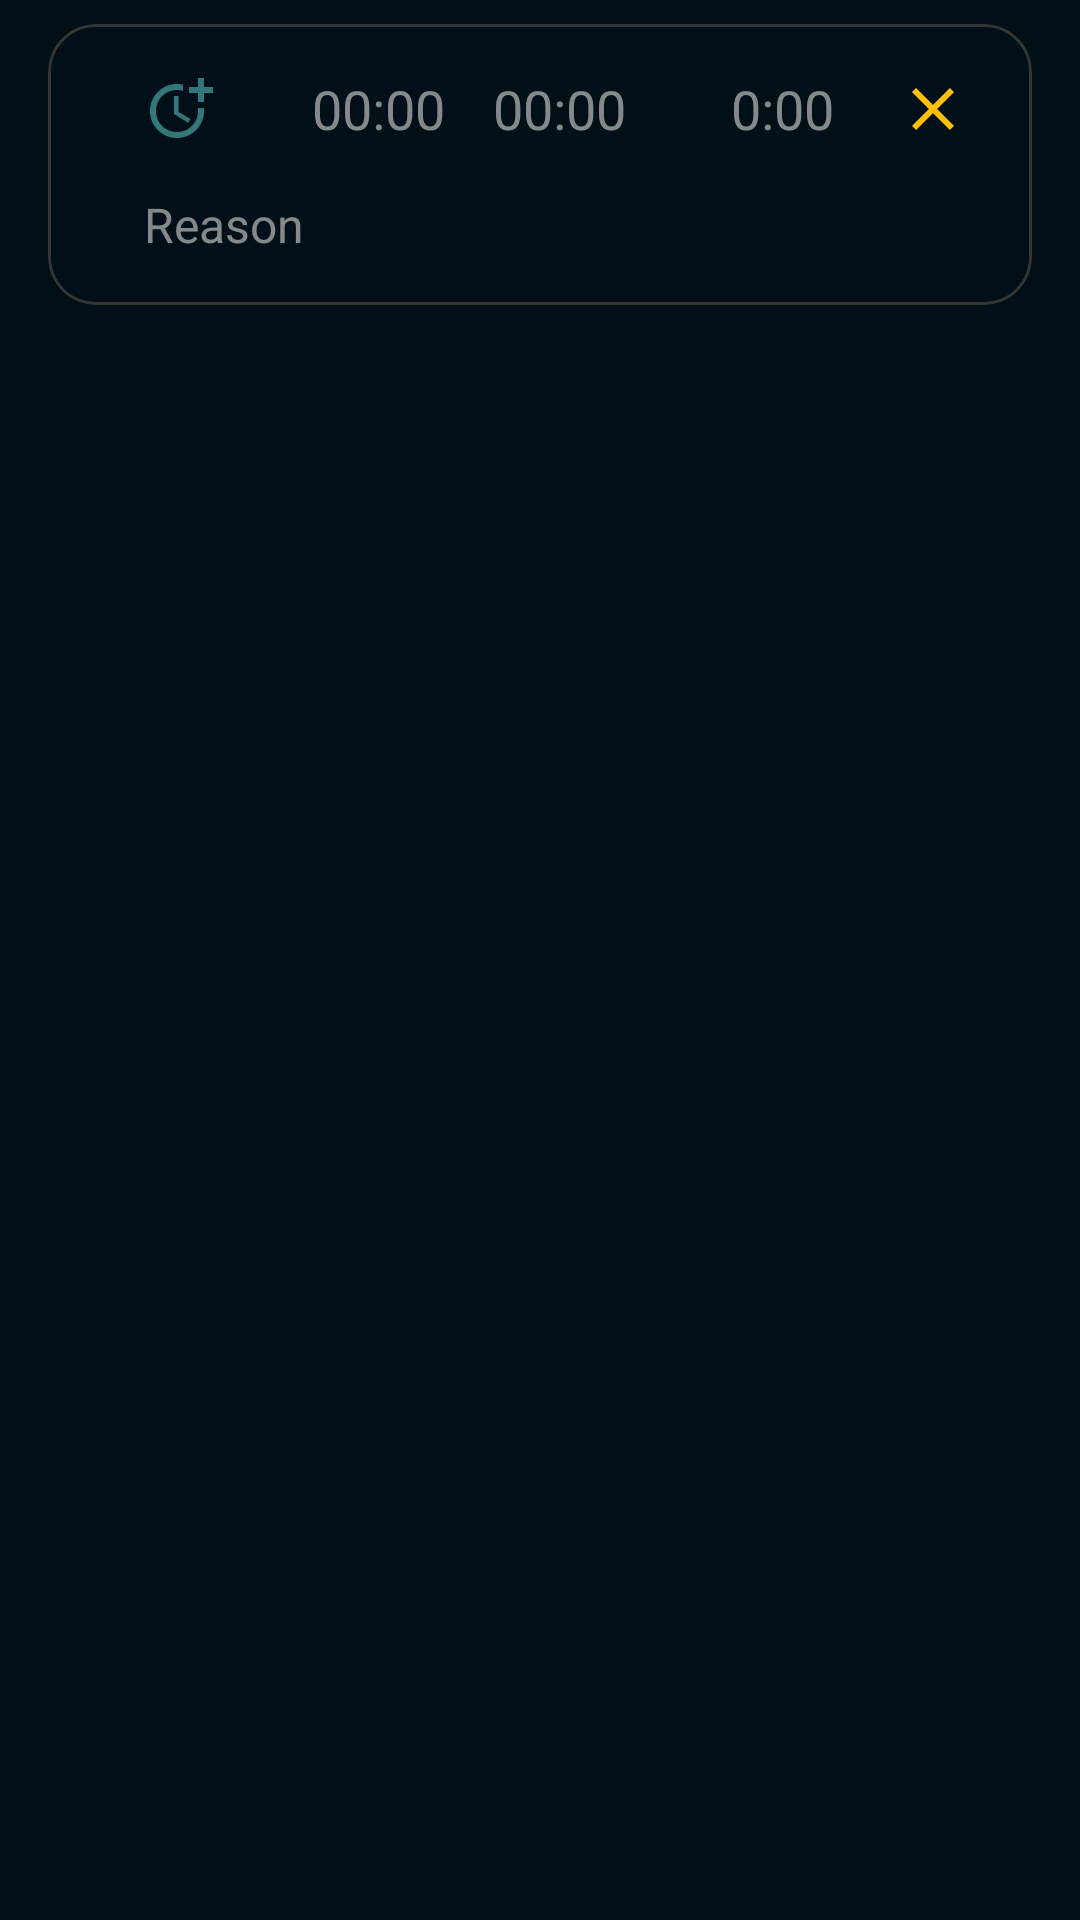

Where icons sit on this 1080 x 1920 app screen, as (left=x1, top=y1, right=x2, bottom=y2):
more time: (left=150, top=78, right=213, bottom=138)
